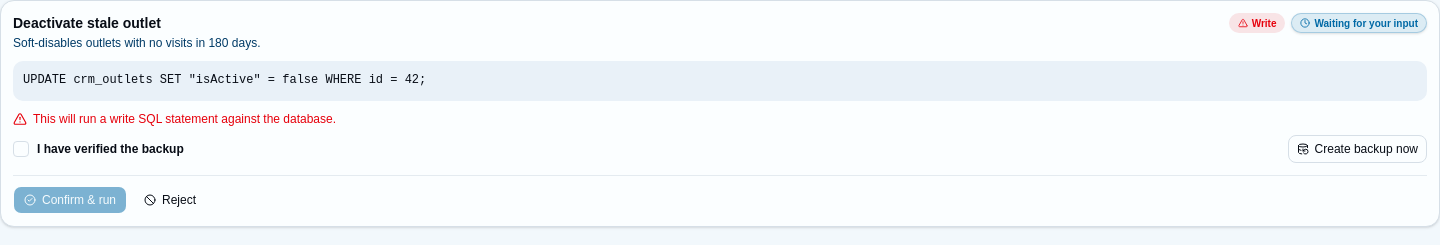
ChatConfirmCard › maps replay errors (BAD_REQUEST) to the expired state + toast
The width and height of the screenshot is (1440, 245).
Click the checkbox named "I have verified the backup": (21, 148) [13, 140, 29, 156]
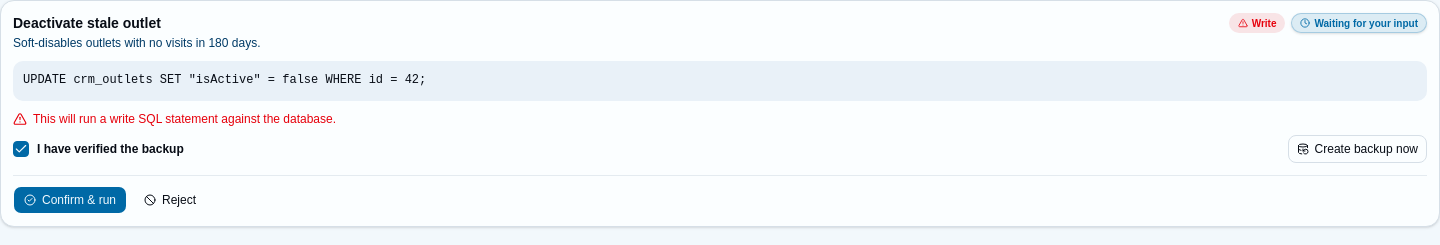
Click the button "Confirm & run": (70, 200) [13, 186, 127, 214]
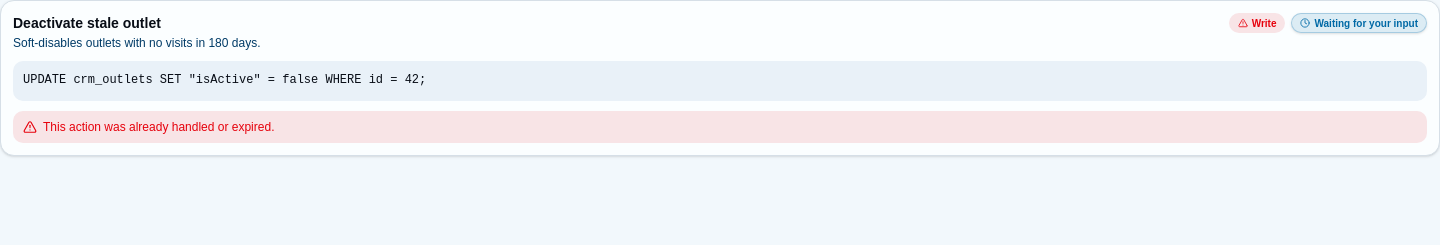
Expected: the text "This action was already handled or expired." is shown, [13, 110, 1427, 142]
